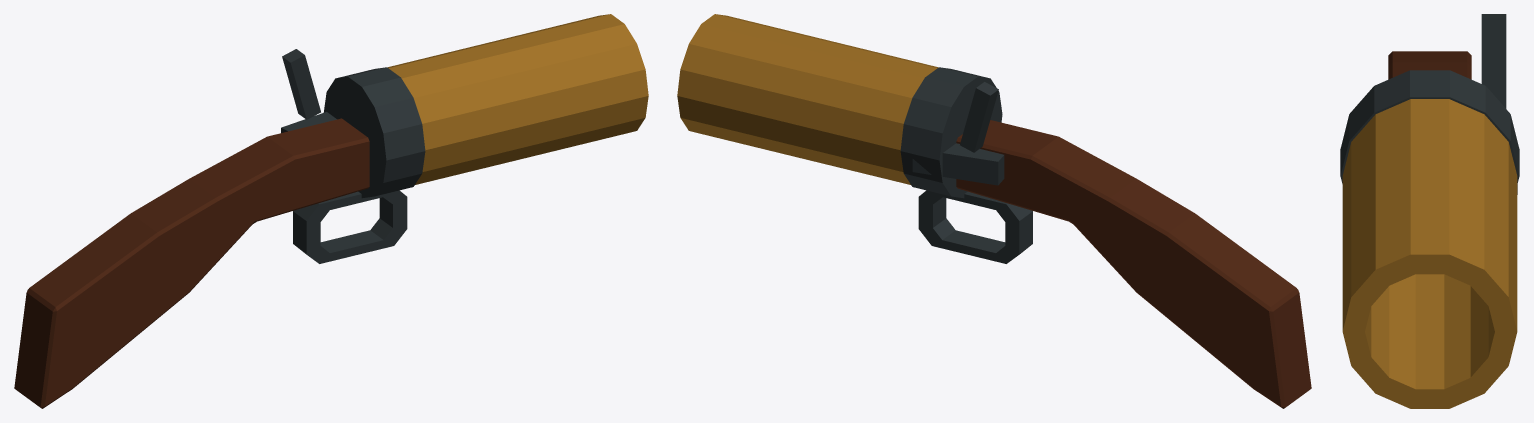
Rendered from CE_Gun_HandMortar.obj.
3 views of the same model, side by side, from view 1: azimuth 30°, elevation 25°; view 2: azimuth 150°, elevation 25°; view 3: azimuth 270°, elevation 25° (orthographic). The views are drawn at different scales.
Visible parts, largest first — view 1: Flintlock_curved_wood_stock, Heavy_hand_mortar_bronze_barrel, Mortar_closed_breech, Mortar_curved_guard, Cocked_flint_hammer; view 2: Flintlock_curved_wood_stock, Heavy_hand_mortar_bronze_barrel, Mortar_closed_breech, Mortar_curved_guard, Flintlock_plate, Cocked_flint_hammer; view 3: Heavy_hand_mortar_bronze_barrel, Mortar_closed_breech, Cocked_flint_hammer, Flintlock_curved_wood_stock.
Boxes of the visible parts, box(x1,y1,x2,y2) form: Flintlock_curved_wood_stock: box(14, 118, 369, 408); Heavy_hand_mortar_bronze_barrel: box(387, 14, 648, 184); Mortar_closed_breech: box(323, 67, 425, 198); Mortar_curved_guard: box(293, 190, 407, 263); Cocked_flint_hammer: box(282, 49, 320, 119); Flintlock_curved_wood_stock: box(956, 120, 1311, 408); Heavy_hand_mortar_bronze_barrel: box(677, 14, 938, 184); Mortar_closed_breech: box(900, 67, 1002, 198); Mortar_curved_guard: box(918, 190, 1032, 263); Flintlock_plate: box(912, 143, 1004, 185); Cocked_flint_hammer: box(960, 82, 998, 152); Heavy_hand_mortar_bronze_barrel: box(1342, 99, 1517, 408); Mortar_closed_breech: box(1340, 70, 1519, 183); Cocked_flint_hammer: box(1481, 14, 1506, 108); Flintlock_curved_wood_stock: box(1388, 51, 1471, 79).
Size of the model in its own units: 0.9095 by 0.3816 by 0.168.
